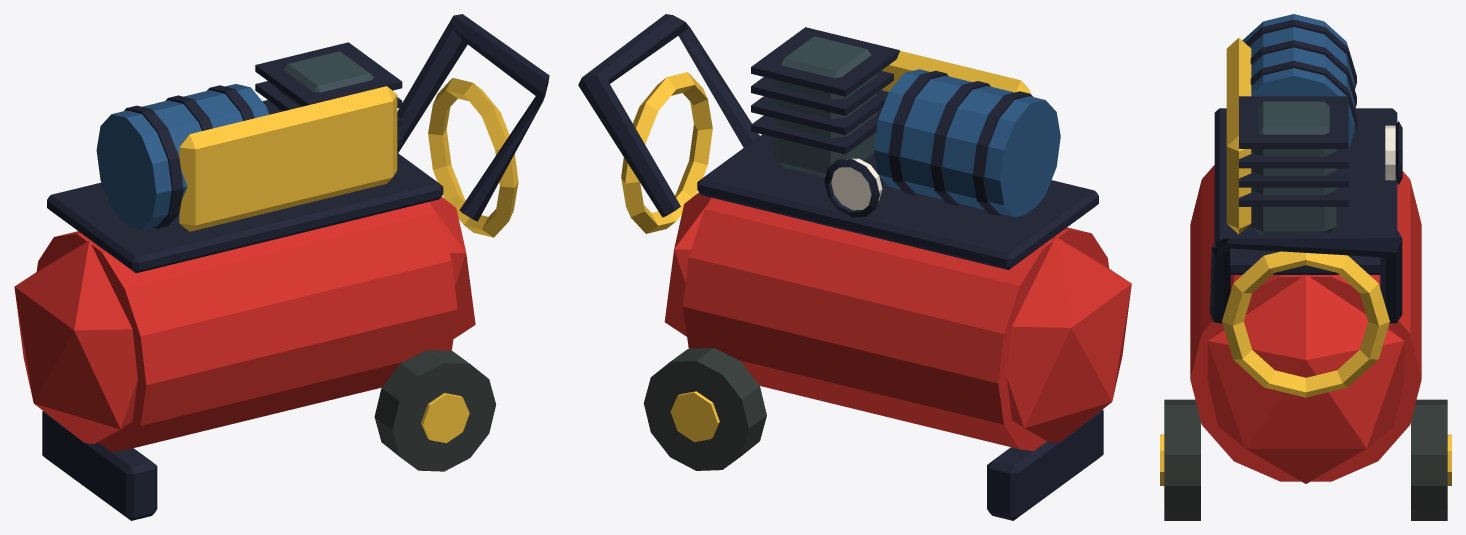
Rendered from sm_env_depot_compressor.glb.
3 renders of one model, left to right at view 1: azimuth 30°, elevation 25°; view 2: azimuth 150°, elevation 25°; view 3: azimuth 270°, elevation 25°, orthographic.
Visible parts, largest first — view 1: Tank, BeltGuard, TankEnd, Deck, Motor, Wheel.001, Handle, FrontFoot, HoseCoil, PumpFin.003, TankEnd.001, Pump (+3 smaller); view 2: Tank, Deck, TankEnd, Motor, Wheel, Handle, FrontFoot, Pump, HoseCoil, PumpFin.003, TankEnd.001, PumpFin.002 (+9 smaller); view 3: TankEnd.001, Tank, Deck, HoseCoil, Pump, Handle, Motor, Wheel, Wheel.001, BeltGuard, PumpFin.003, PumpFin.002 (+7 smaller).
Part boxes in pixels (<box>): Tank: <box>36,202,457,452</box>; BeltGuard: <box>179,86,397,231</box>; TankEnd: <box>14,240,137,444</box>; Deck: <box>47,153,443,273</box>; Motor: <box>96,84,269,229</box>; Wheel.001: <box>374,350,496,471</box>; Handle: <box>397,14,549,221</box>; FrontFoot: <box>42,411,157,520</box>; HoseCoil: <box>428,78,518,237</box>; PumpFin.003: <box>255,42,402,106</box>; TankEnd.001: <box>429,196,475,338</box>; Pump: <box>277,51,373,111</box>; Tank: <box>683,198,1109,451</box>; Deck: <box>697,134,1098,269</box>; TankEnd: <box>1007,237,1131,443</box>; Motor: <box>874,69,1060,217</box>; Wheel: <box>643,348,766,470</box>; Handle: <box>578,14,759,217</box>; FrontFoot: <box>987,409,1103,520</box>; Pump: <box>773,36,877,176</box>; HoseCoil: <box>621,72,712,233</box>; PumpFin.003: <box>751,27,899,96</box>; TankEnd.001: <box>664,192,711,336</box>; PumpFin.002: <box>751,71,893,115</box>; TankEnd.001: <box>1207,274,1404,483</box>; Tank: <box>1190,165,1421,481</box>; Deck: <box>1214,108,1397,274</box>; HoseCoil: <box>1222,251,1389,397</box>; Pump: <box>1251,101,1336,236</box>; Handle: <box>1210,228,1402,323</box>; Motor: <box>1242,14,1354,150</box>; Wheel: <box>1411,399,1447,520</box>; Wheel.001: <box>1164,399,1200,520</box>; BeltGuard: <box>1226,38,1251,234</box>; PumpFin.003: <box>1239,96,1348,148</box>; PumpFin.002: <box>1239,149,1348,168</box>.
Size of the model in its own units: 0.9304 by 0.684 by 0.479.
